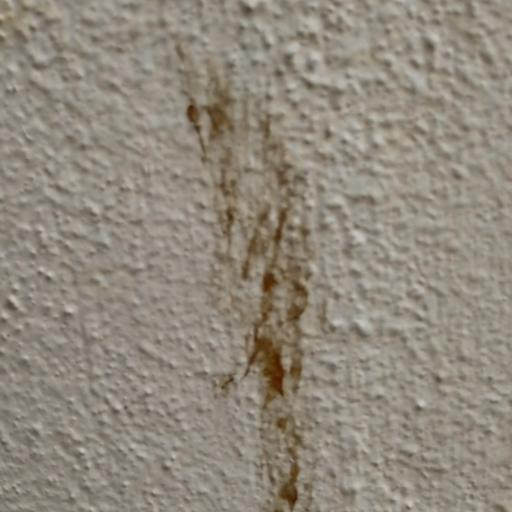stain: (151, 59, 331, 512)
